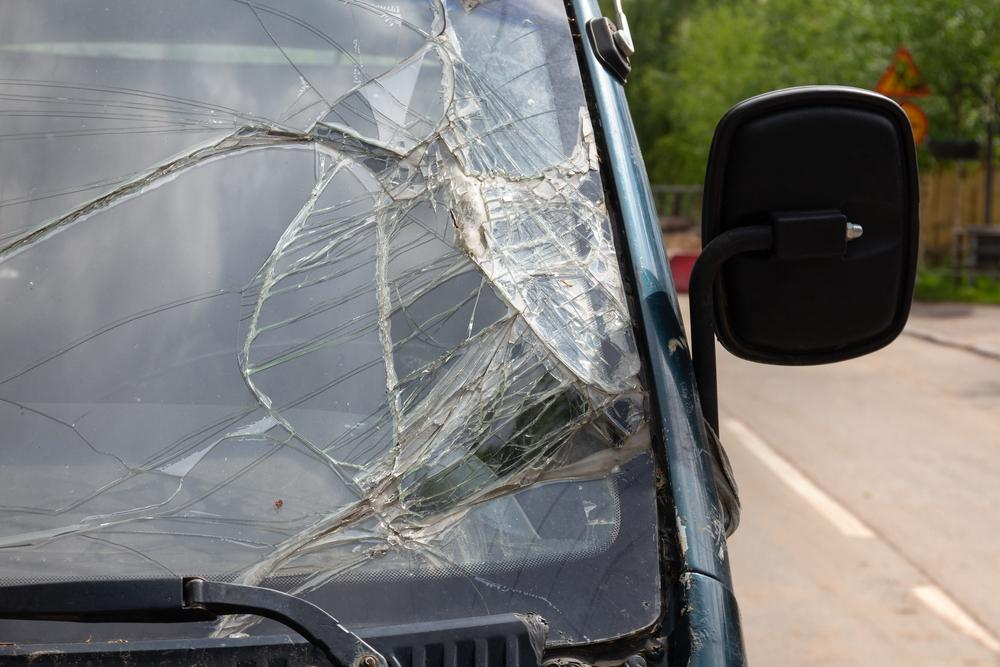glass shatter: (0, 0, 661, 643)
